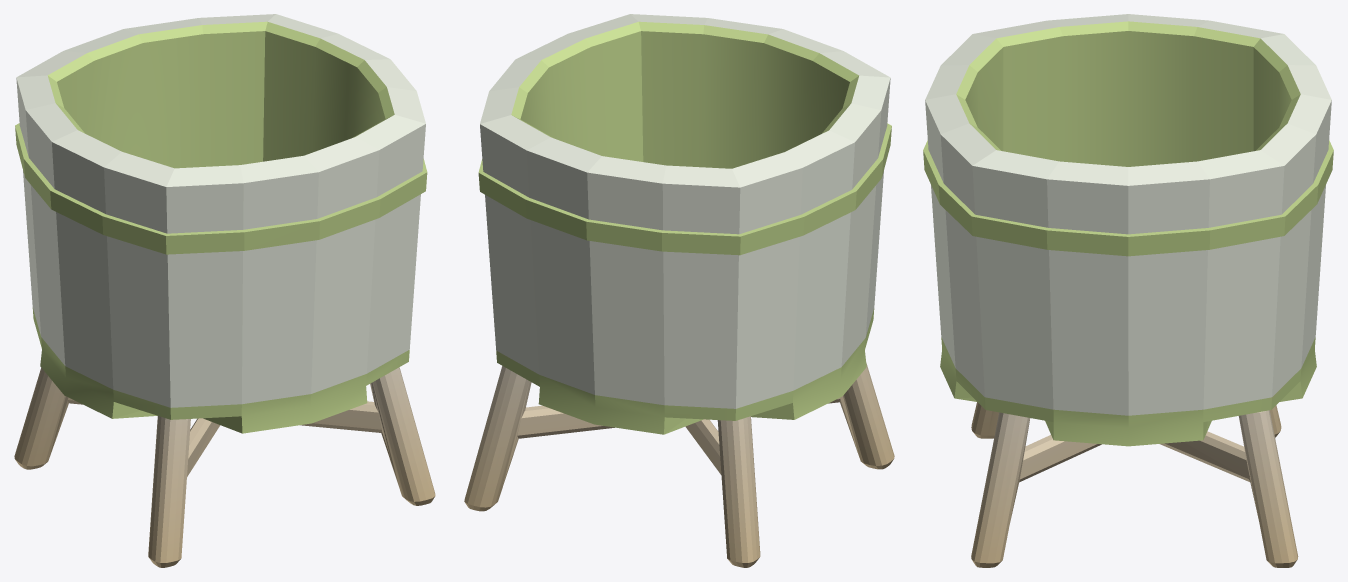
File: PlantPot_14.fbx
3 renders of one model, left to right at view 1: azimuth 30°, elevation 25°; view 2: azimuth 150°, elevation 25°; view 3: azimuth 270°, elevation 25°, orthographic. The views are drawn at different scales.
Parts seen in each view (by area): view 1: PlantPot_14; view 2: PlantPot_14; view 3: PlantPot_14.
Part boxes in pixels (bbox=[...]): PlantPot_14: bbox=[14, 14, 435, 567]; PlantPot_14: bbox=[464, 14, 894, 567]; PlantPot_14: bbox=[923, 14, 1333, 567].
Size of the model in its own units: 36.59 by 39.62 by 36.59.
